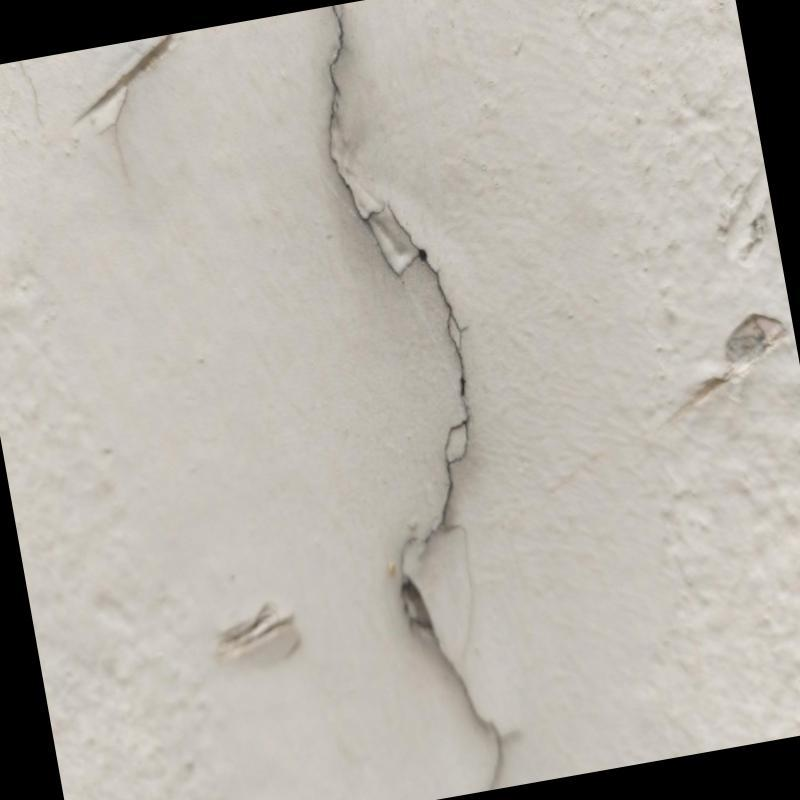pothole: (324, 10, 507, 781)
